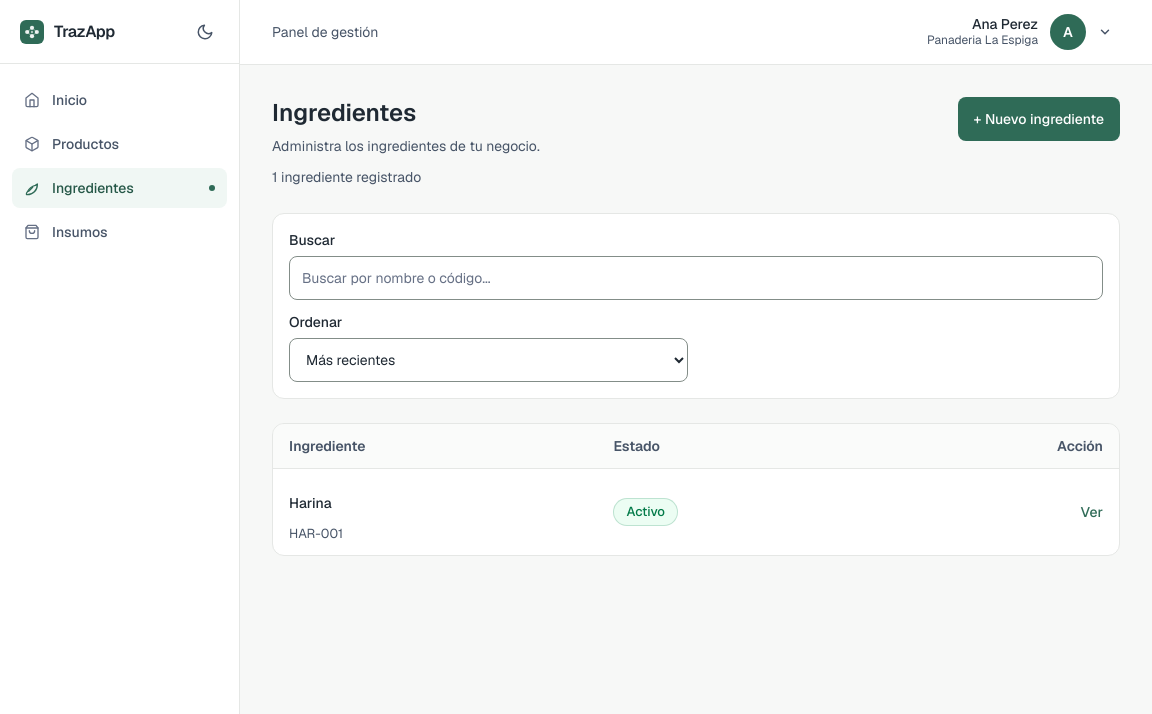
Test: Listados y detalle: navegación › los ingredientes se abren desde un enlace real
This screenshot has width=1152, height=714.
What coordinates should you click on to do the following:
click the link with aria-label "Ver ingrediente Harina"
I would click on:
 (310, 502)
Its box is x1=289 y1=494 x2=332 y2=512.
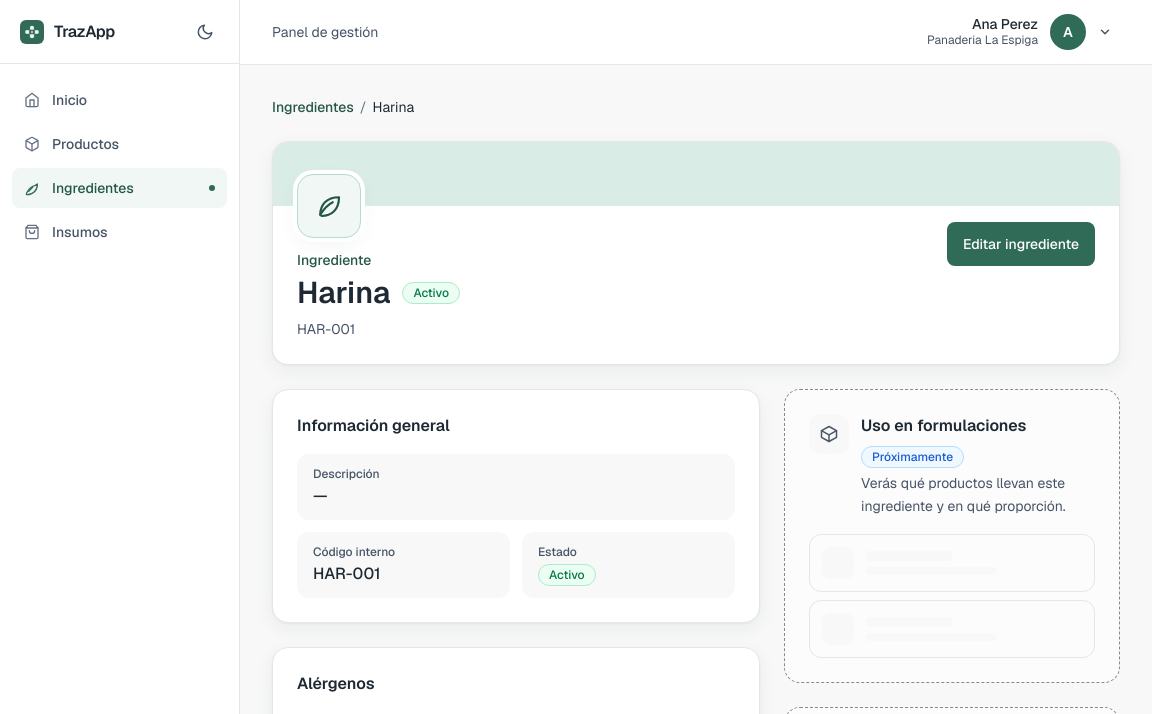
Expected: the heading "Harina" is shown, x1=297 y1=274 x2=390 y2=312
